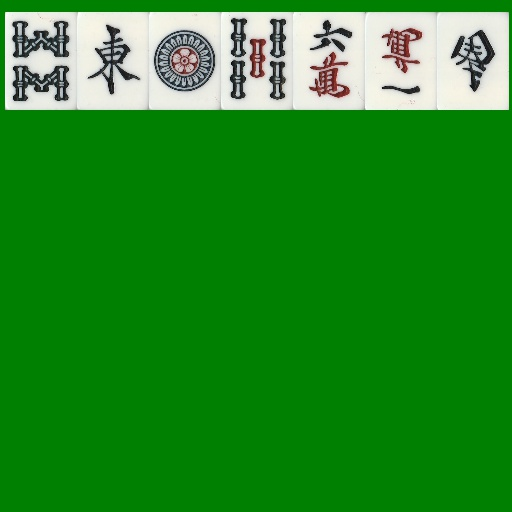1m: (365, 12, 437, 110)
1p: (149, 12, 221, 110)
5s: (221, 12, 293, 110)
6m: (293, 12, 365, 110)
8s: (5, 12, 77, 110)
east: (77, 12, 149, 110)
south: (437, 12, 509, 110)
